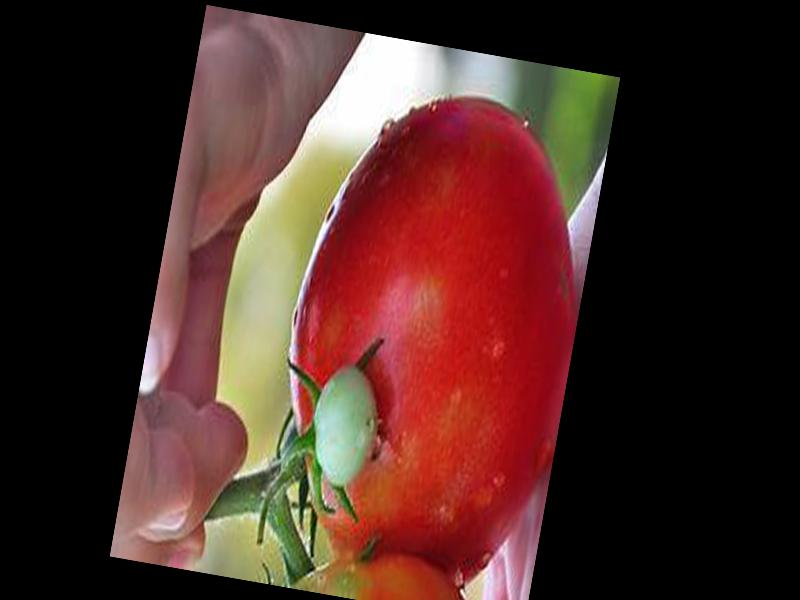Tomato: (253, 74, 612, 595)
